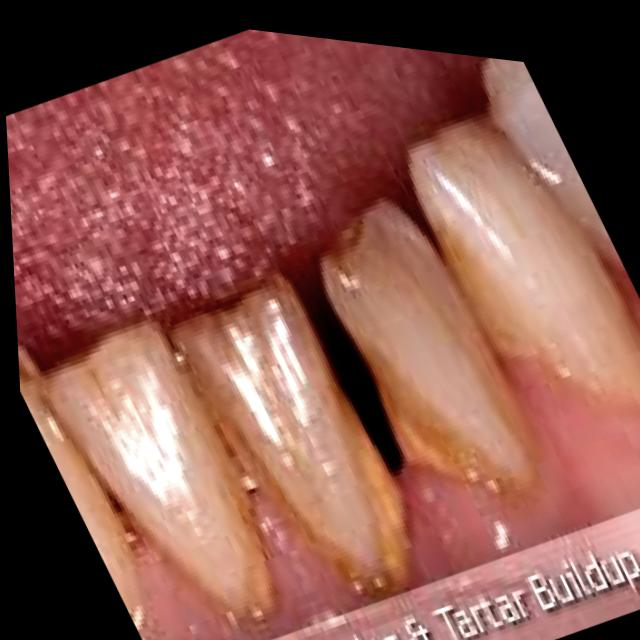tooth-discoloration: (168, 273, 406, 591), (48, 320, 272, 616), (318, 199, 531, 489)
